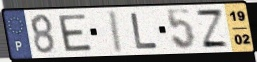5: (163, 7, 198, 52)
8: (30, 13, 57, 55)
E: (56, 12, 94, 53)
I: (108, 9, 125, 55)
L: (129, 11, 161, 50)
Z: (194, 9, 231, 49)
